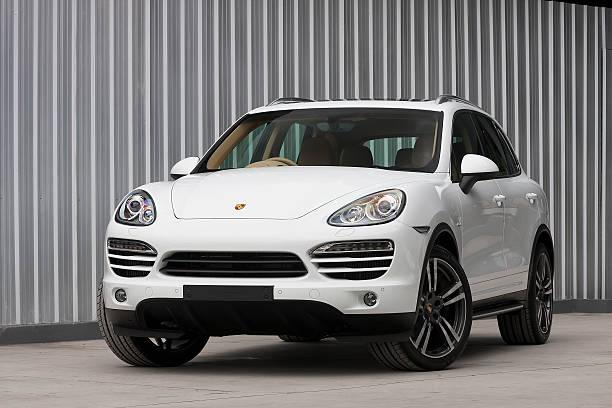porsche: (228, 199, 252, 214)
